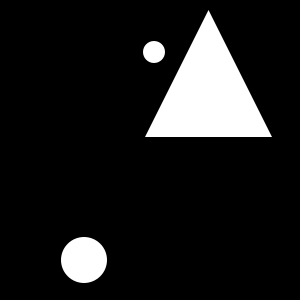rectangle: (61, 237, 107, 283), (143, 41, 165, 63)
triangle: (145, 10, 272, 137)
